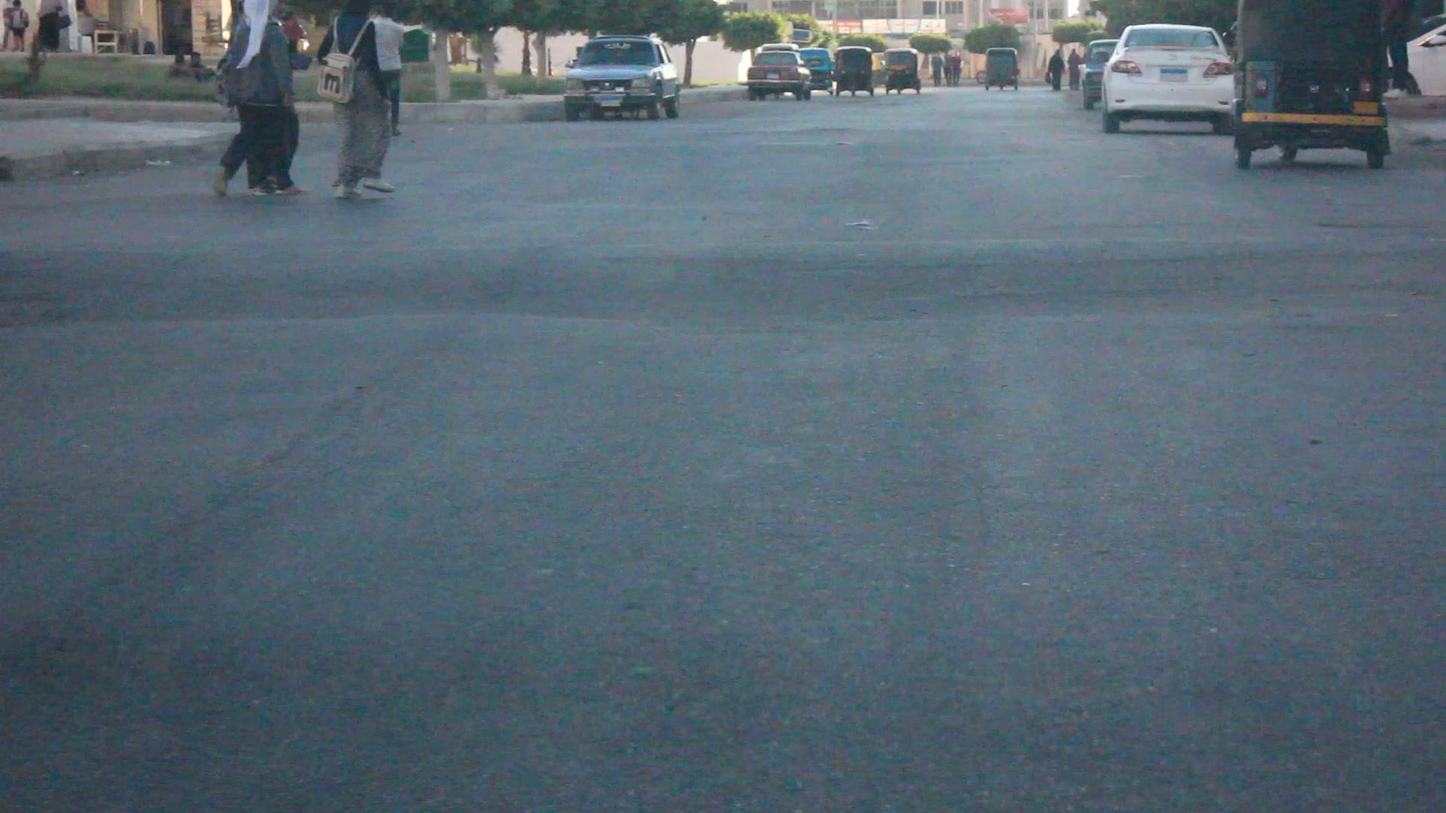Bump: (0, 209, 1446, 350)
